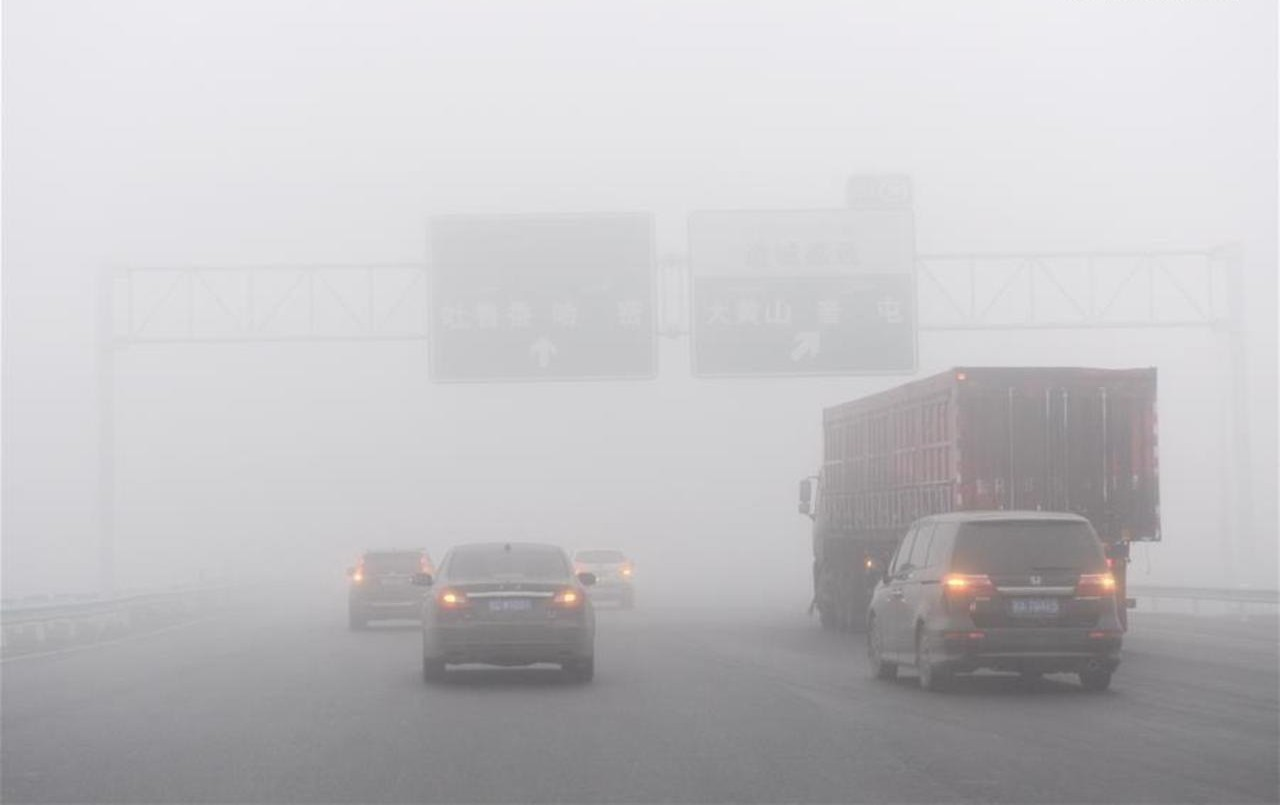car: (865, 505, 1126, 697), (416, 543, 598, 684), (344, 548, 433, 630), (571, 547, 637, 610)
truck: (800, 361, 1157, 625)
